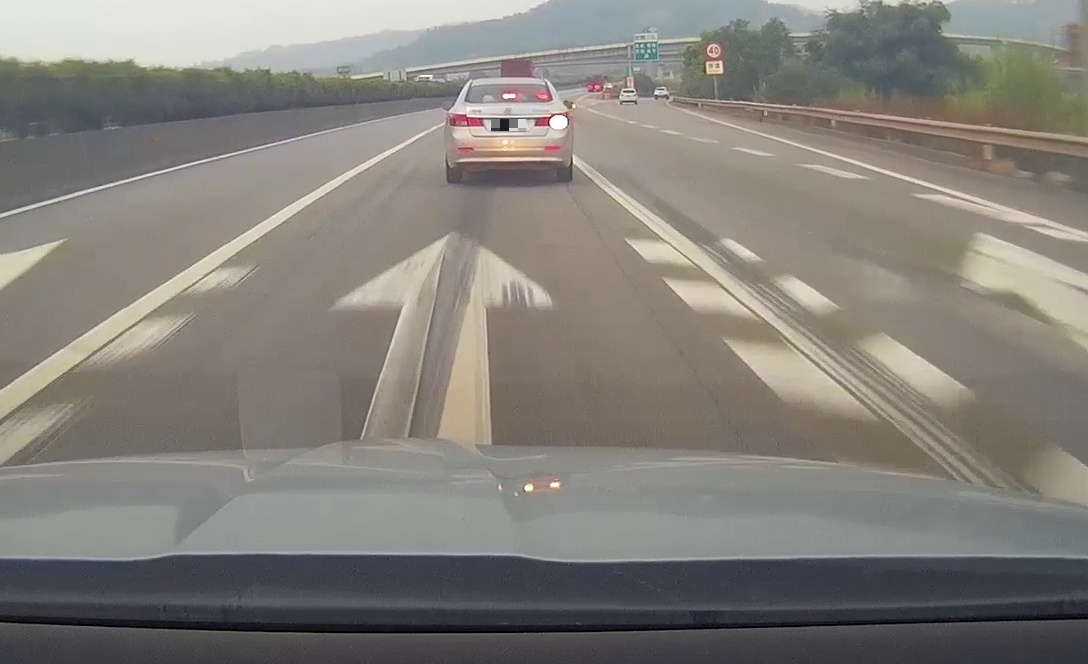L_light: (448, 112, 483, 126)
R_light: (535, 113, 569, 129)
T_light: (502, 94, 517, 99)
day-right: (444, 77, 573, 182)
plate_1: (491, 119, 526, 131)
